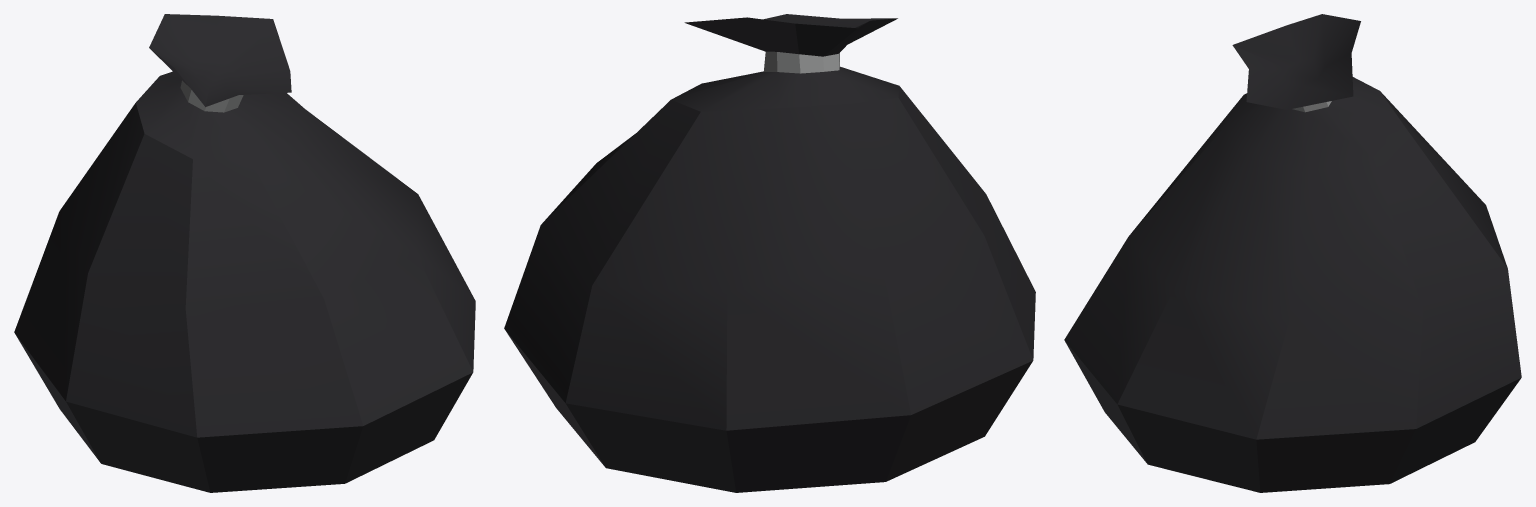
Rendered from Trash 1.fbx.
The picture shows the model from 3 angles, left to right: view 1: azimuth 30°, elevation 25°; view 2: azimuth 150°, elevation 25°; view 3: azimuth 270°, elevation 25°; orthographic projection. The views are drawn at different scales.
Parts seen in each view (by area): view 1: Trash_01; view 2: Trash_01; view 3: Trash_01.
Boxes of the visible parts, left/top/right/bottom form: Trash_01: left=14, top=14, right=475, bottom=492; Trash_01: left=504, top=14, right=1035, bottom=492; Trash_01: left=1064, top=14, right=1521, bottom=492.
Size of the model in its own units: 65.26 by 57.93 by 65.08.
